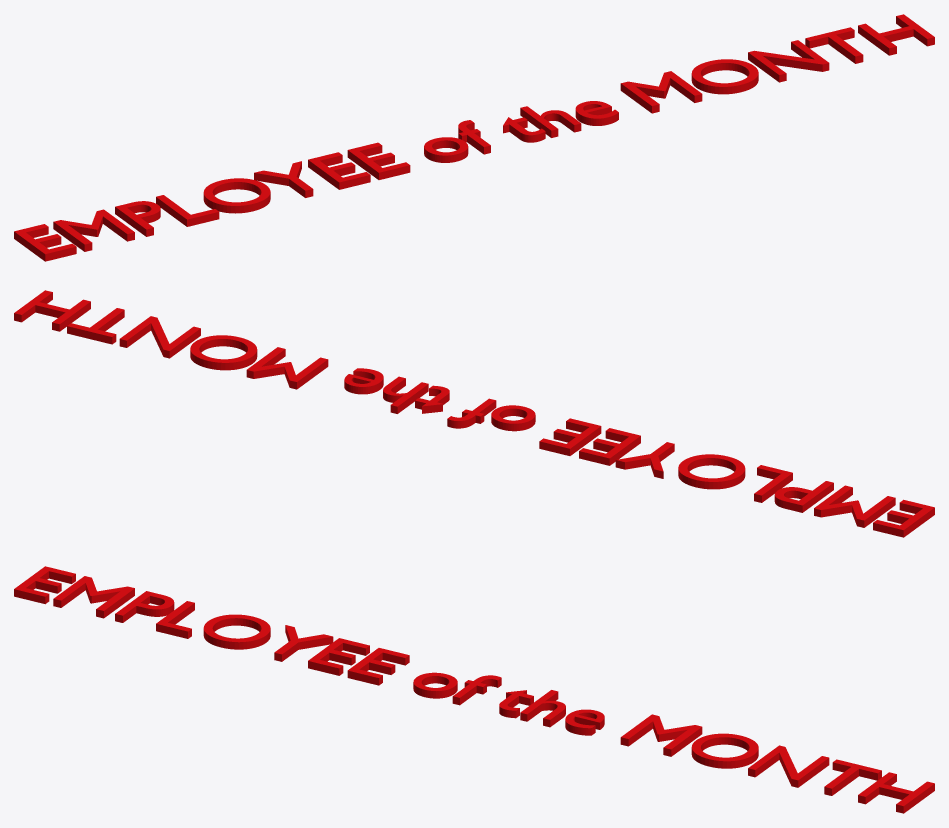
Rendered from EOTM.fbx.
3 renders of one model, top to bottom at view 1: azimuth 30°, elevation 25°; view 2: azimuth 150°, elevation 25°; view 3: azimuth 330°, elevation 25°, orthographic.
Parts seen in each view (by area): view 1: 文字; view 2: 文字; view 3: 文字.
Boxes of the visible parts, x1,y1,x2,y2 form: 文字: [14, 14, 934, 261]; 文字: [14, 290, 934, 537]; 文字: [14, 566, 934, 813].
Size of the model in its own units: 1122 by 9 by 70.04.
